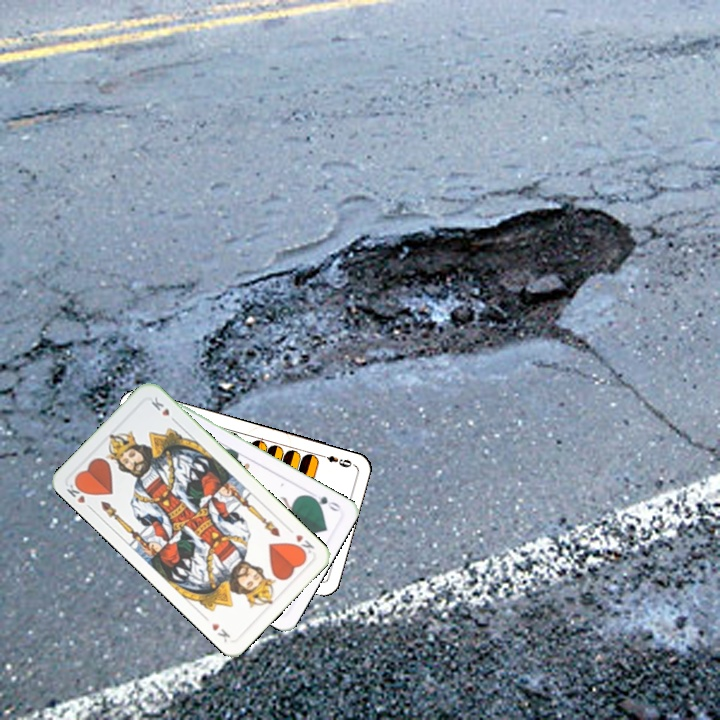E9: (316, 451, 356, 470)
GO: (305, 491, 343, 514)
HK: (62, 477, 96, 513), (289, 530, 317, 559)
